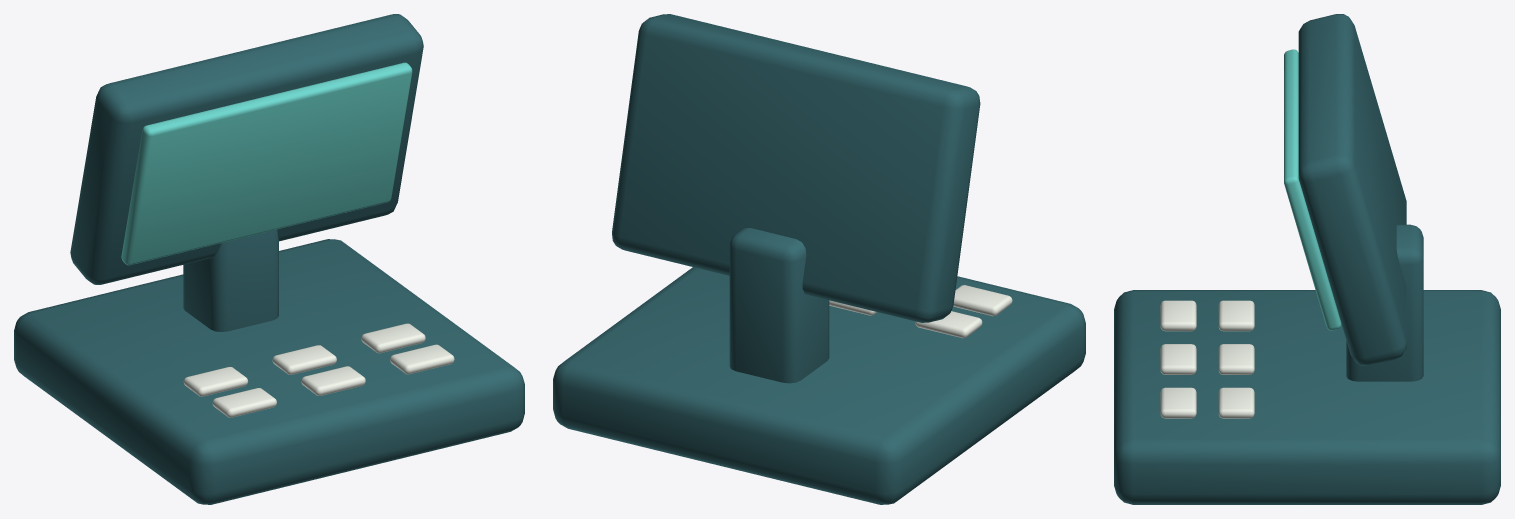
File: service_register.glb
3 views of the same model, side by side, from view 1: azimuth 30°, elevation 25°; view 2: azimuth 150°, elevation 25°; view 3: azimuth 270°, elevation 25° (orthographic). The views are drawn at different scales.
Parts seen in each view (by area): view 1: Cube, Cube.003, Cube.002, Cube.001, Cube.006, Cube.008, Cube.009, Cube.005, Cube.007, Cube.004; view 2: Cube.002, Cube, Cube.001, Cube.004, Cube.005; view 3: Cube, Cube.002, Cube.001, Cube.003, Cube.004, Cube.005, Cube.008, Cube.009, Cube.006, Cube.007.
Part boxes in pixels (x1,y1,x2,y2): Cube: [14, 239, 524, 504]; Cube.003: [121, 62, 412, 265]; Cube.002: [70, 14, 423, 284]; Cube.001: [183, 229, 278, 331]; Cube.006: [301, 366, 365, 395]; Cube.008: [390, 344, 454, 374]; Cube.009: [361, 323, 425, 353]; Cube.005: [183, 367, 248, 396]; Cube.007: [272, 345, 336, 374]; Cube.004: [212, 388, 276, 417]; Cube.002: [612, 14, 980, 322]; Cube: [553, 267, 1085, 504]; Cube.001: [729, 228, 829, 383]; Cube.004: [953, 285, 1012, 316]; Cube.005: [915, 311, 982, 338]; Cube: [1114, 290, 1500, 504]; Cube.002: [1298, 14, 1406, 365]; Cube.001: [1346, 224, 1423, 381]; Cube.003: [1284, 49, 1341, 330]; Cube.004: [1160, 300, 1196, 331]; Cube.005: [1218, 300, 1254, 331]; Cube.008: [1160, 387, 1196, 418]; Cube.009: [1218, 387, 1254, 418]; Cube.006: [1160, 344, 1196, 374]; Cube.007: [1218, 344, 1254, 374].
Size of the model in its own units: 0.3 by 0.2947 by 0.3.
